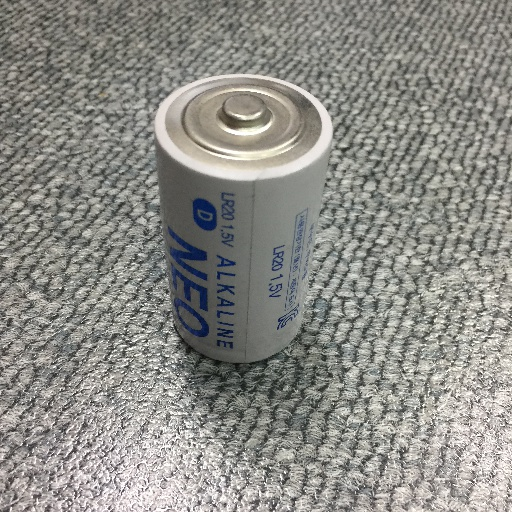Battery_0: (147, 62, 343, 375)
